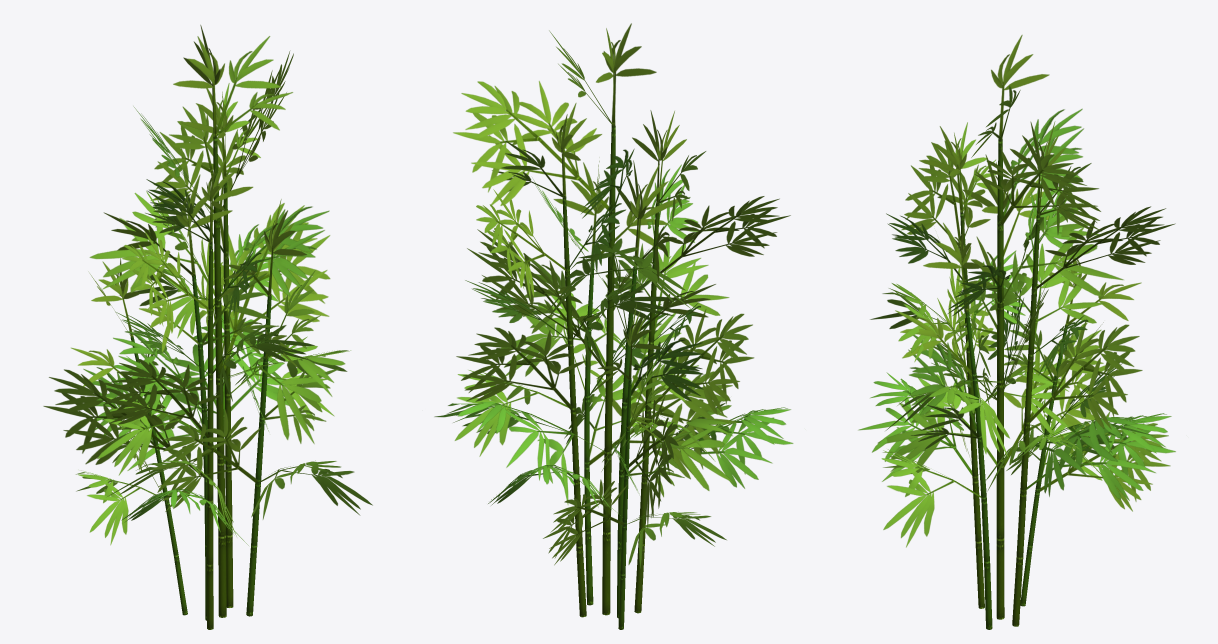
The model's file is Bamboo_Bush.glb.
The picture shows the model from 3 angles, left to right: view 1: azimuth 30°, elevation 25°; view 2: azimuth 150°, elevation 25°; view 3: azimuth 270°, elevation 25°; orthographic projection. The views are drawn at different scales.
Visible parts, largest first — view 1: unnamed; view 2: unnamed; view 3: unnamed.
Boxes of the visible parts, x1,y1,x2,y2 form: unnamed: (43, 25, 372, 629); unnamed: (434, 23, 793, 629); unnamed: (858, 35, 1175, 629).
Bounding box in the file's own units: 121 × 219 × 122.
1 material, 1 textured.
